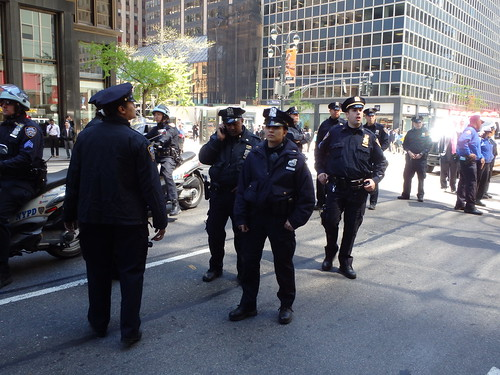building: (254, 1, 500, 109), (135, 1, 259, 103), (1, 1, 112, 108)
motorcycle: (1, 180, 88, 285), (151, 154, 204, 219)
policeman: (74, 80, 165, 348), (244, 120, 311, 325), (315, 83, 382, 288), (197, 105, 263, 286), (1, 88, 47, 197), (450, 111, 492, 219), (397, 112, 438, 201)
street: (47, 208, 500, 375)
tree: (104, 37, 190, 109)
